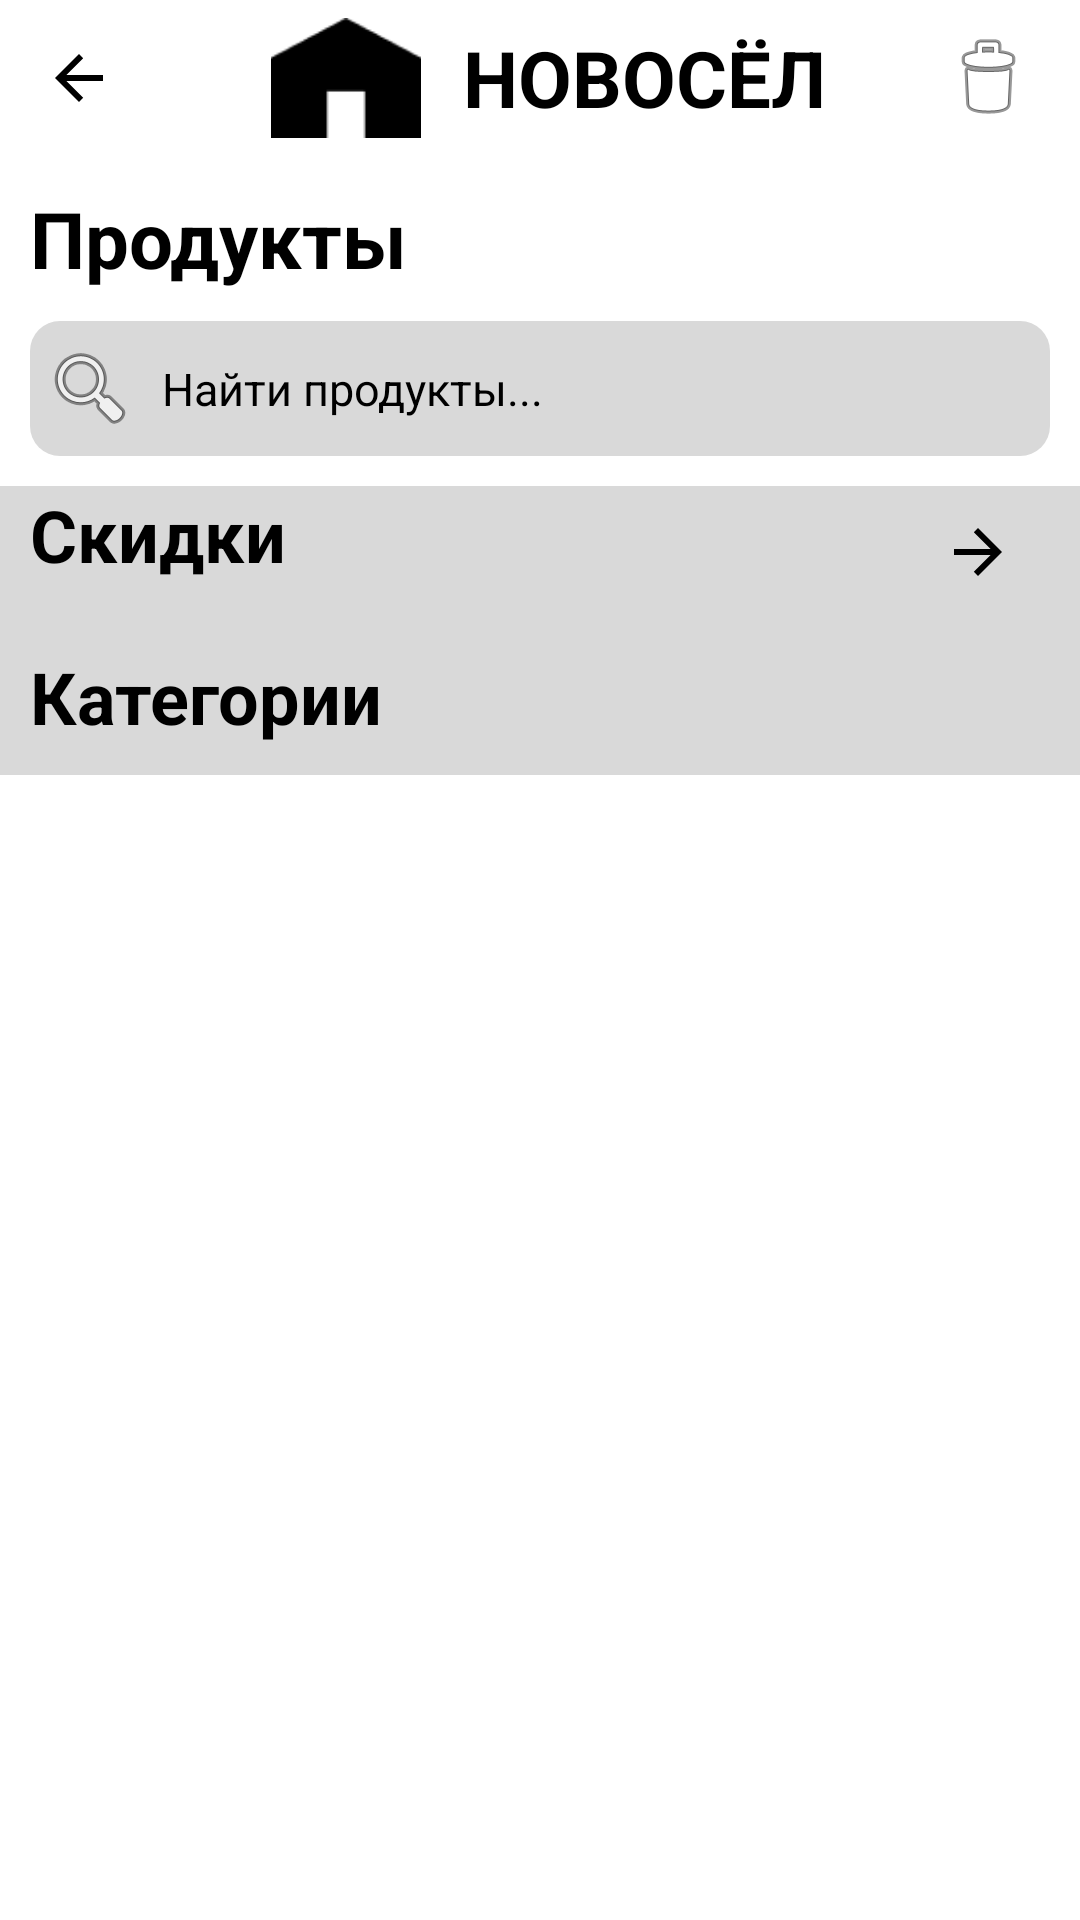

Named icons in this screenshot (1080x1920) and their centers, point (x, y):
delete: point (988, 76)
